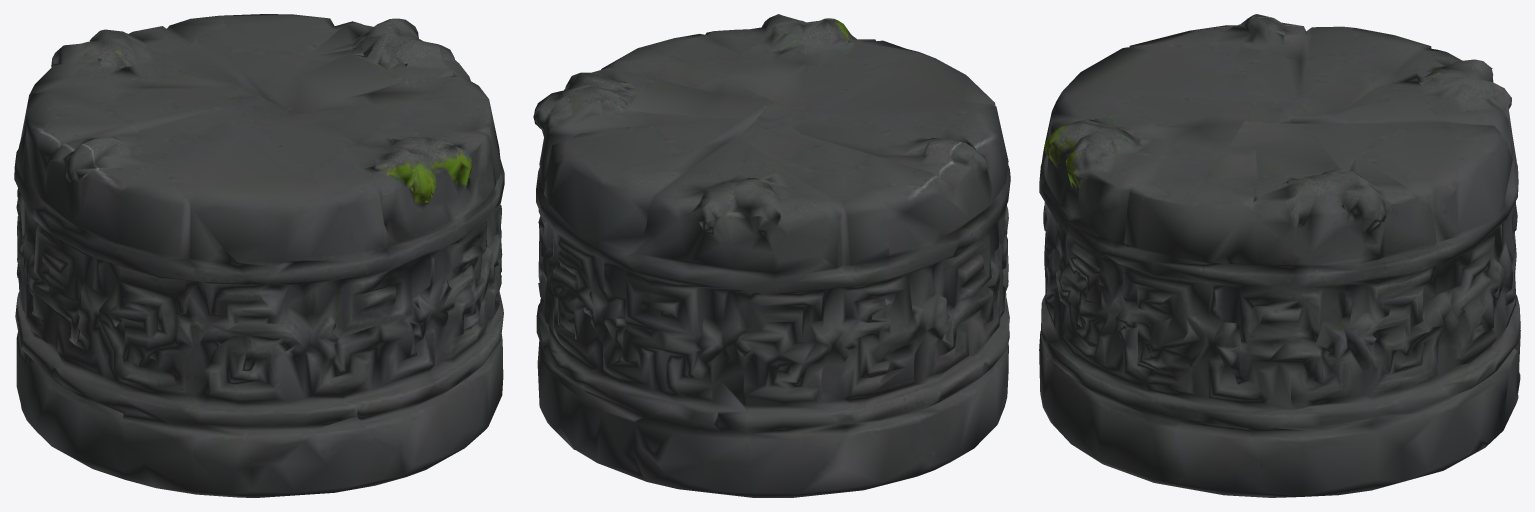
The model's file is og_drum.glb.
The picture shows the model from 3 angles, left to right: view 1: azimuth 30°, elevation 25°; view 2: azimuth 150°, elevation 25°; view 3: azimuth 270°, elevation 25°; orthographic projection. The views are drawn at different scales.
Size of the model in its own units: 1.89 by 1.31 by 1.9.
1 material, 1 textured.
